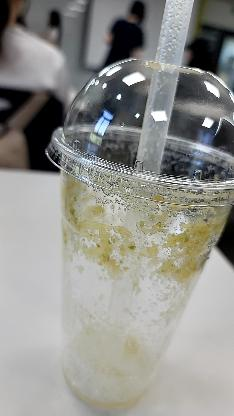Plastic Cup: (44, 58, 234, 412), (44, 58, 234, 206)
